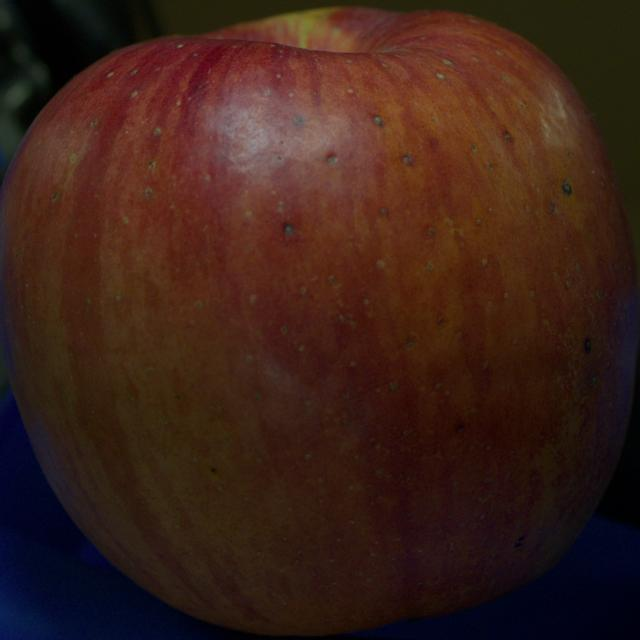apple: (0, 8, 639, 636)
pest: (515, 536, 526, 547), (563, 179, 571, 194), (584, 339, 591, 353), (294, 116, 304, 125), (328, 156, 337, 165), (373, 117, 383, 125), (403, 155, 410, 163), (285, 226, 292, 233), (504, 132, 510, 139), (211, 467, 216, 472)
